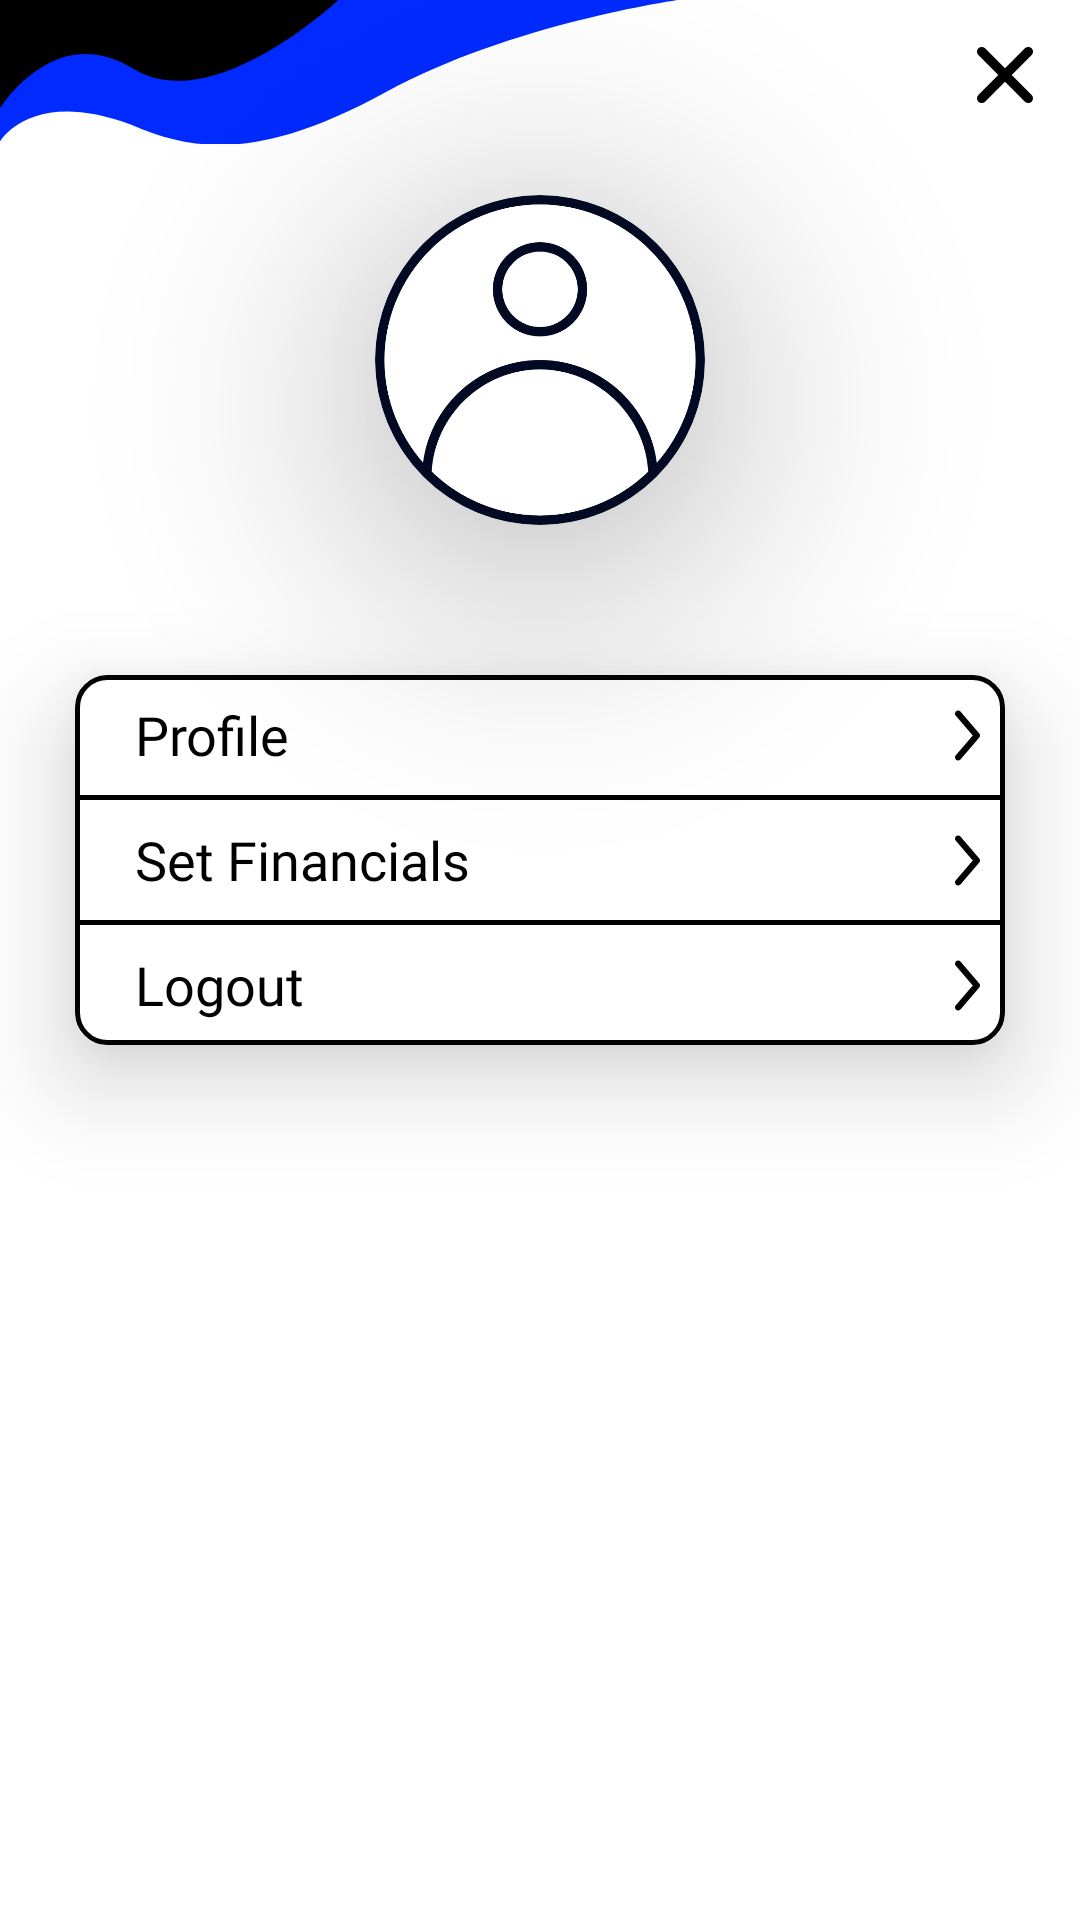

Icons on this 1080px x 1920px Android screen, each with its box as [x1=x1, y1=y1, x2=x2, y2=y2]:
arrow: [x1=955, y1=710, x2=980, y2=761], [x1=955, y1=835, x2=980, y2=886], [x1=955, y1=960, x2=980, y2=1011]
close: [x1=977, y1=47, x2=1033, y2=103]
person: [x1=375, y1=195, x2=705, y2=525]
